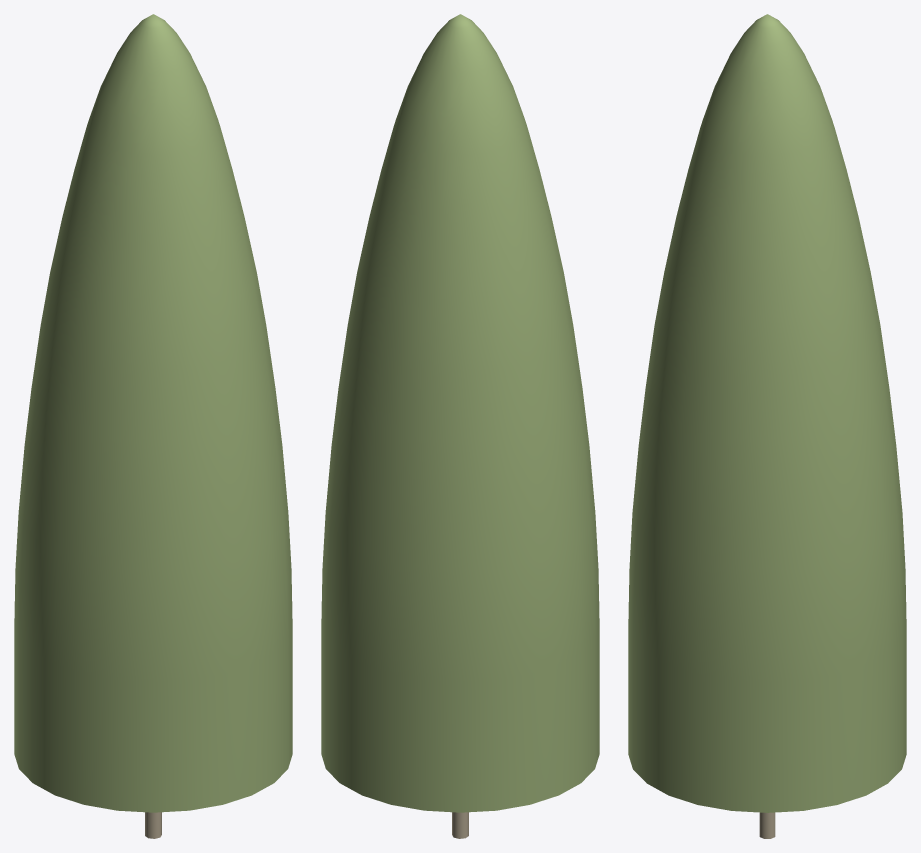
Rendered from LaurusNobilis.glb.
3 views of the same model, side by side, from view 1: azimuth 30°, elevation 25°; view 2: azimuth 150°, elevation 25°; view 3: azimuth 270°, elevation 25° (orthographic).
Parts seen in each view (by area): view 1: Bay_Laurel__Schematic_LOD3; view 2: Bay_Laurel__Schematic_LOD3; view 3: Bay_Laurel__Schematic_LOD3.
Boxes of the visible parts, box(x1,y1,x2,y2) form: Bay_Laurel__Schematic_LOD3: box(14, 14, 292, 838); Bay_Laurel__Schematic_LOD3: box(321, 14, 599, 838); Bay_Laurel__Schematic_LOD3: box(628, 14, 906, 838).
Bounding box in the file's own units: 1.3 × 4.23 × 1.3.
